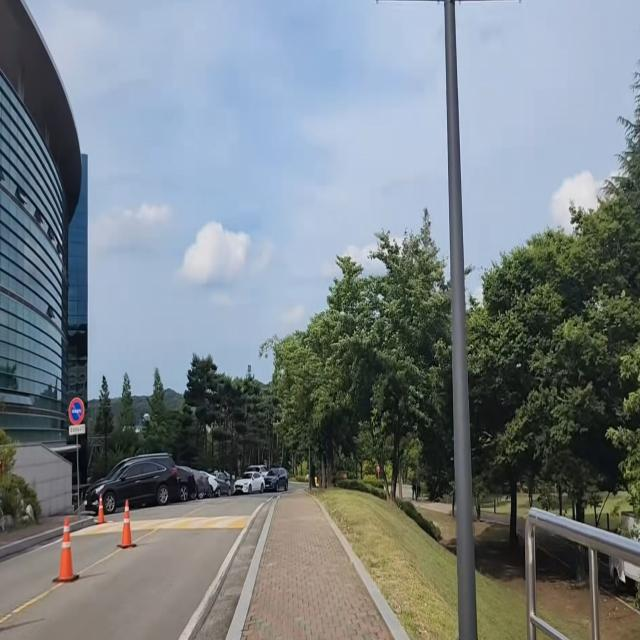obstacle: (443, 0, 479, 640), (85, 450, 288, 511), (67, 392, 88, 518), (49, 510, 80, 581), (113, 491, 140, 551)
road: (0, 496, 271, 640)
sidewalk: (225, 494, 413, 640), (0, 517, 87, 550)
